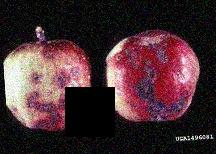rotten apple: (105, 28, 201, 123), (5, 38, 92, 134)
